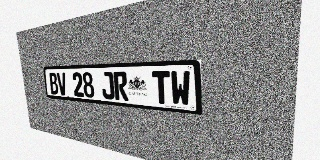2: (72, 72, 84, 97)
8: (82, 72, 95, 98)
B: (49, 73, 59, 95)
J: (101, 72, 115, 100)
R: (113, 71, 129, 101)
T: (152, 71, 171, 105)
V: (56, 72, 67, 96)
W: (170, 71, 191, 106)
